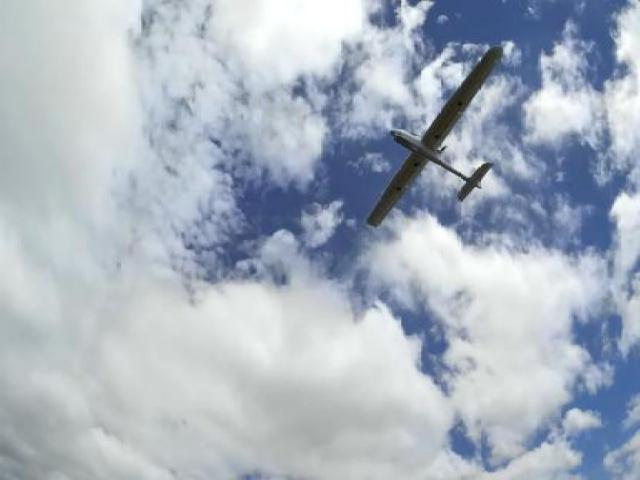uav: (358, 41, 518, 239)
